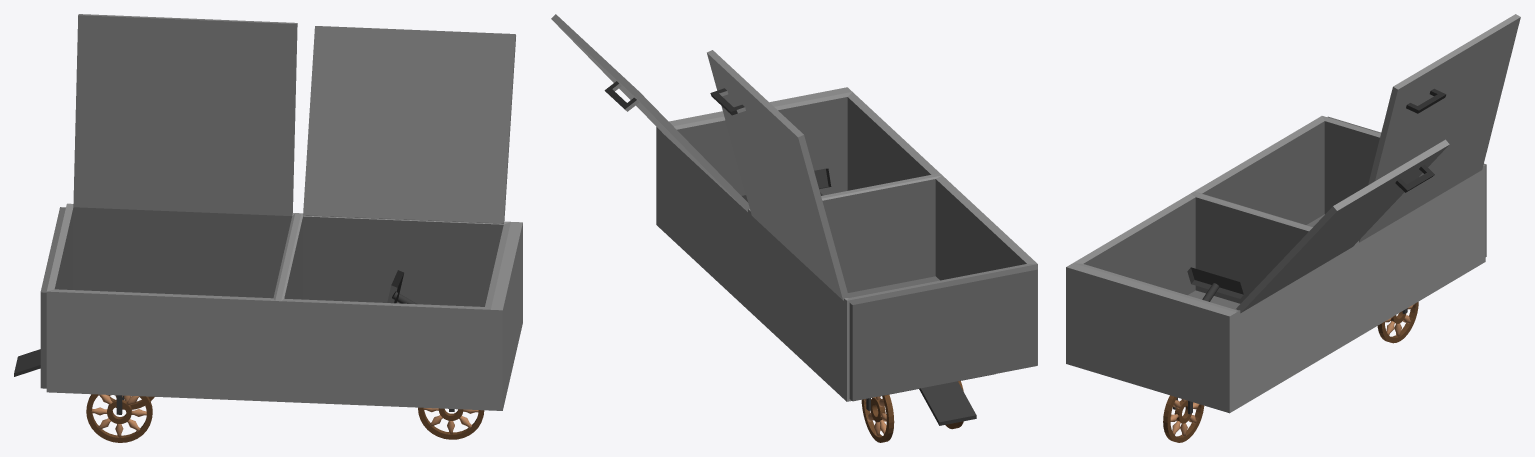
File: fridgewagon.gltf
The picture shows the model from 3 angles, left to right: view 1: azimuth 30°, elevation 25°; view 2: azimuth 150°, elevation 25°; view 3: azimuth 270°, elevation 25°; orthographic projection. The views are drawn at different scales.
Parts seen in each view (by area): view 1: Cylinder.001; view 2: Cylinder.001; view 3: Cylinder.001.
Boxes of the visible parts, x1,y1,x2,y2 form: Cylinder.001: (14, 14, 522, 442); Cylinder.001: (551, 14, 1037, 442); Cylinder.001: (1066, 14, 1520, 442).
Size of the model in its own units: 12.41 by 8.54 by 10.59.
